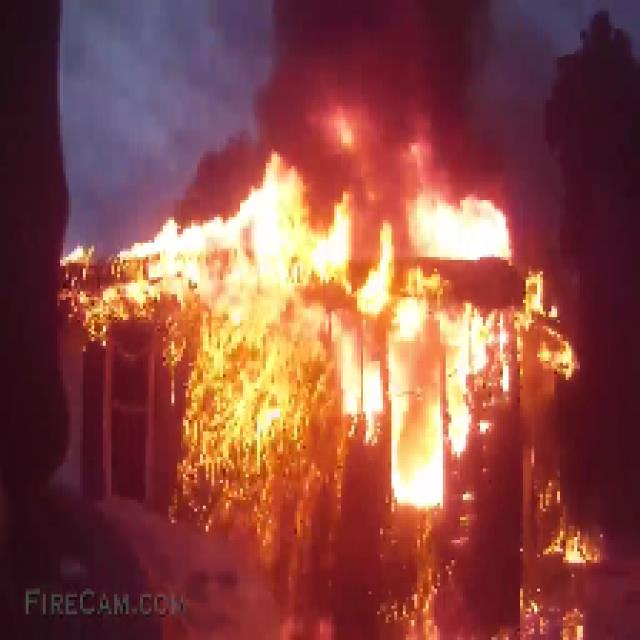fire: (115, 215, 506, 485)
smoke: (288, 5, 468, 112)
